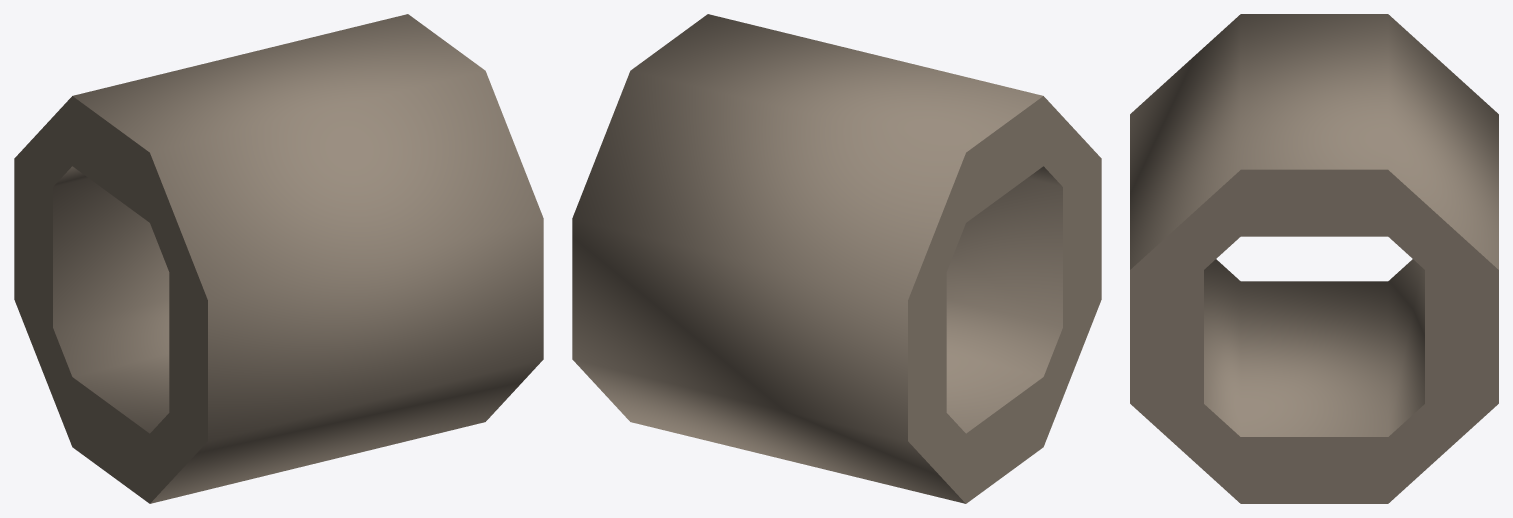
The model's file is Convayer.glb.
The picture shows the model from 3 angles, left to right: view 1: azimuth 30°, elevation 25°; view 2: azimuth 150°, elevation 25°; view 3: azimuth 270°, elevation 25°; orthographic projection. The views are drawn at different scales.
Visible parts, largest first — view 1: Convayer; view 2: Convayer; view 3: Convayer.
Boxes of the visible parts, box(x1,y1,x2,y2) form: Convayer: box(14, 14, 543, 503); Convayer: box(572, 14, 1101, 503); Convayer: box(1130, 14, 1498, 503).
Size of the model in its own units: 1 by 1 by 1.
